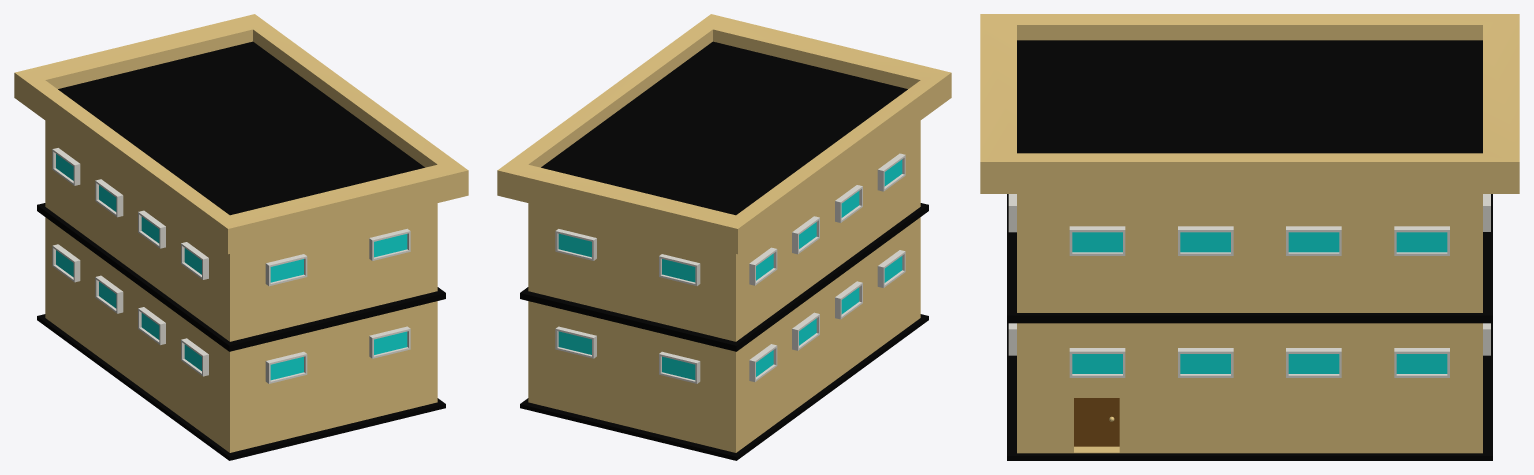
The model's file is house3.fbx.
3 renders of one model, left to right at view 1: azimuth 30°, elevation 25°; view 2: azimuth 150°, elevation 25°; view 3: azimuth 270°, elevation 25°, orthographic. The views are drawn at different scales.
Visible parts, largest first — view 1: Cube.003; view 2: Cube.003; view 3: Cube.003.
Boxes of the visible parts, left/top/right/bottom form: Cube.003: left=14, top=14, right=468, bottom=460; Cube.003: left=497, top=14, right=951, bottom=460; Cube.003: left=980, top=14, right=1519, bottom=460.
Bounding box in the file's own units: 12682 × 12228 × 19520.
